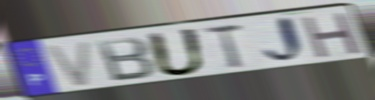B: (94, 36, 157, 84)
H: (298, 10, 364, 61)
J: (262, 14, 310, 67)
T: (201, 22, 247, 71)
U: (144, 26, 209, 78)
V: (42, 38, 94, 90)
